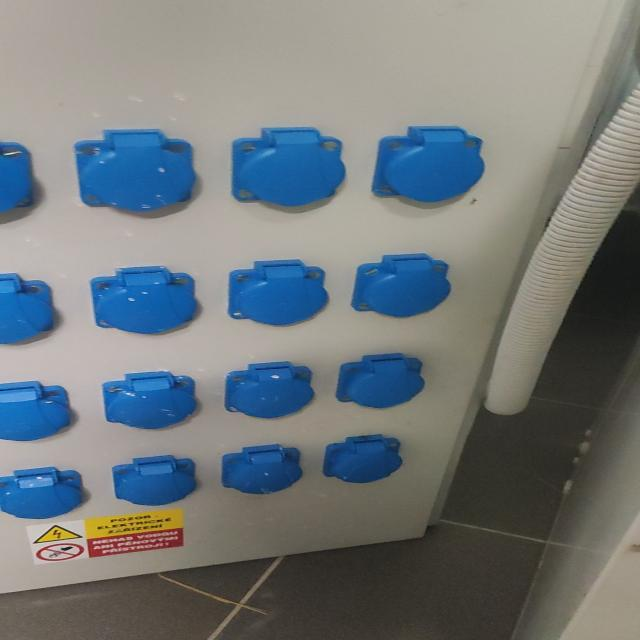house plug covered: (75, 129, 195, 211), (232, 127, 346, 206), (371, 125, 482, 202), (90, 267, 198, 334), (227, 259, 328, 325), (352, 253, 450, 318), (102, 371, 197, 430), (224, 361, 314, 419), (335, 352, 425, 408), (0, 381, 72, 442), (0, 466, 82, 519), (111, 455, 196, 505), (221, 444, 303, 494), (322, 434, 402, 483), (0, 273, 54, 344), (0, 143, 37, 214)
